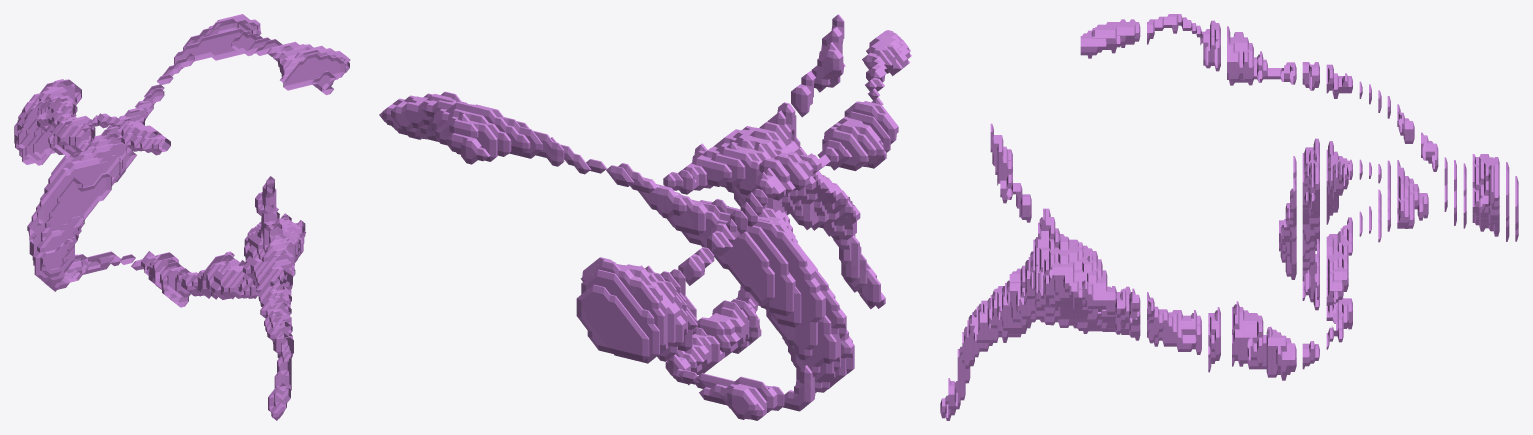
The model's file is SVV_CEPDL.gltf.
3 views of the same model, side by side, from view 1: azimuth 30°, elevation 25°; view 2: azimuth 150°, elevation 25°; view 3: azimuth 270°, elevation 25° (orthographic). The views are drawn at different scales.
Visible parts, largest first — view 1: CEPDL; view 2: CEPDL; view 3: CEPDL.
Boxes of the visible parts, <box> form: CEPDL: <box>14,14,350,420</box>; CEPDL: <box>379,14,911,420</box>; CEPDL: <box>940,14,1518,420</box>.
Size of the model in its own units: 41996 by 31250 by 47002.
